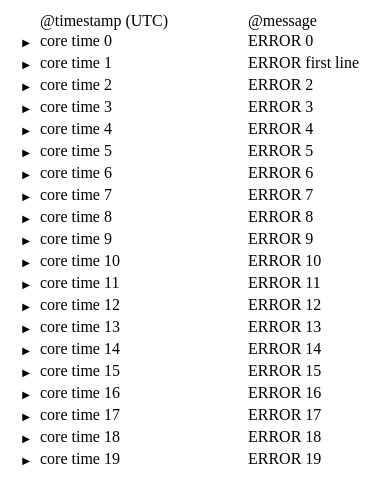
QueryResultTable (261017-insights-query U1:BR6.3, BR6.4, U2:BR7.1-BR7.4) › opens a row with every field and value, the fixed ones first, and closes it again
Expected: the row with test id "query-result-row" shows "ERROR first line", [248,54,359,71]
Click the button named "Show details".
click(26, 64)  # box [16,58,36,71]
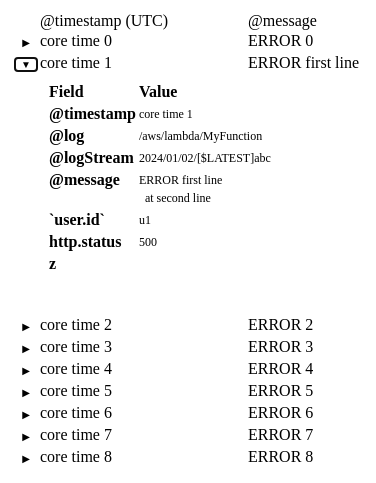
Result: the cell with test id "query-result-details" shows "2024/01/02/[$LATEST]abc" at [139,151,271,165]
Result: the row with test id "query-result-row" is expanded at [15,54,359,272]
Click the button named "Hide details".
click(26, 64)  # box [15,58,37,71]
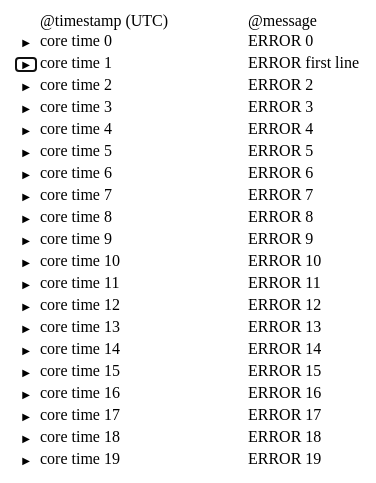
Result: the cell with test id "query-result-details" is gone
